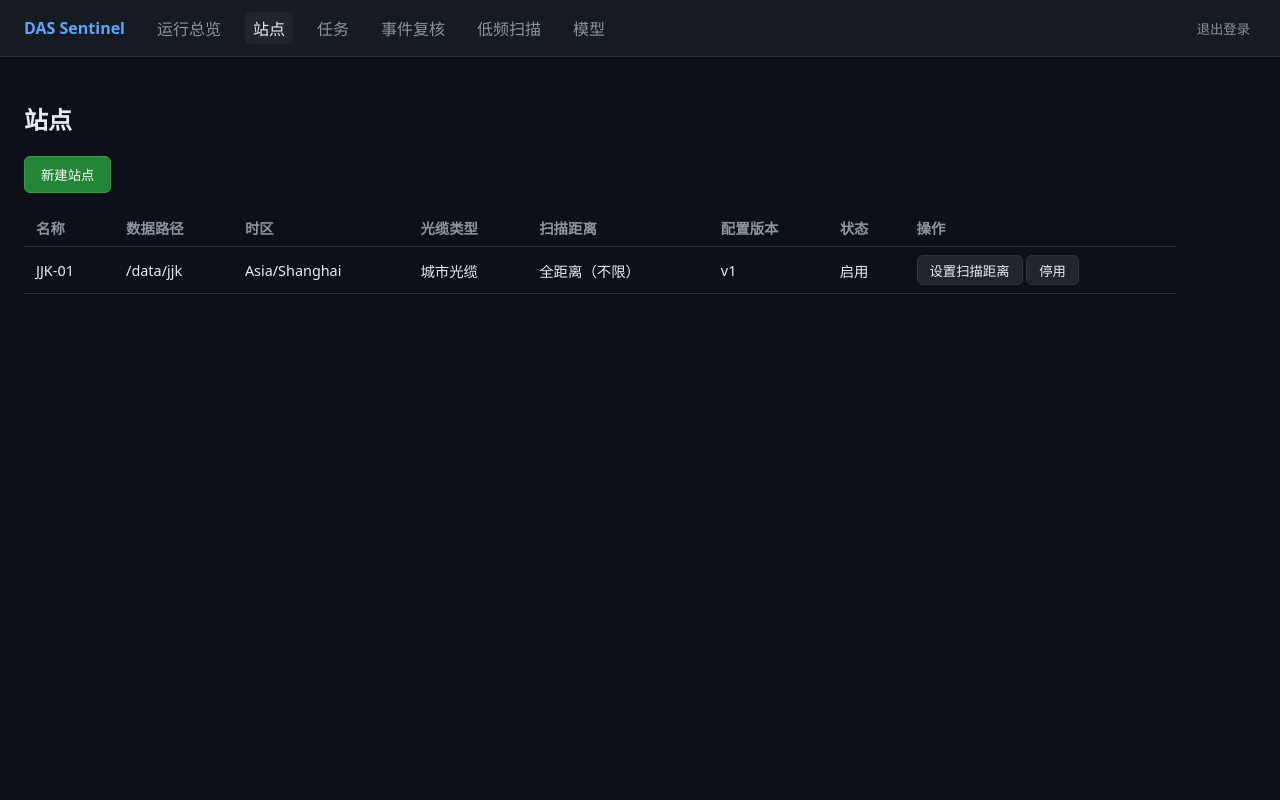
Test: rejects invalid scan distance  to -1 before saving
The width and height of the screenshot is (1280, 800).
Click the button "设置扫描距离" at (970, 270), box [916,255,1022,285]
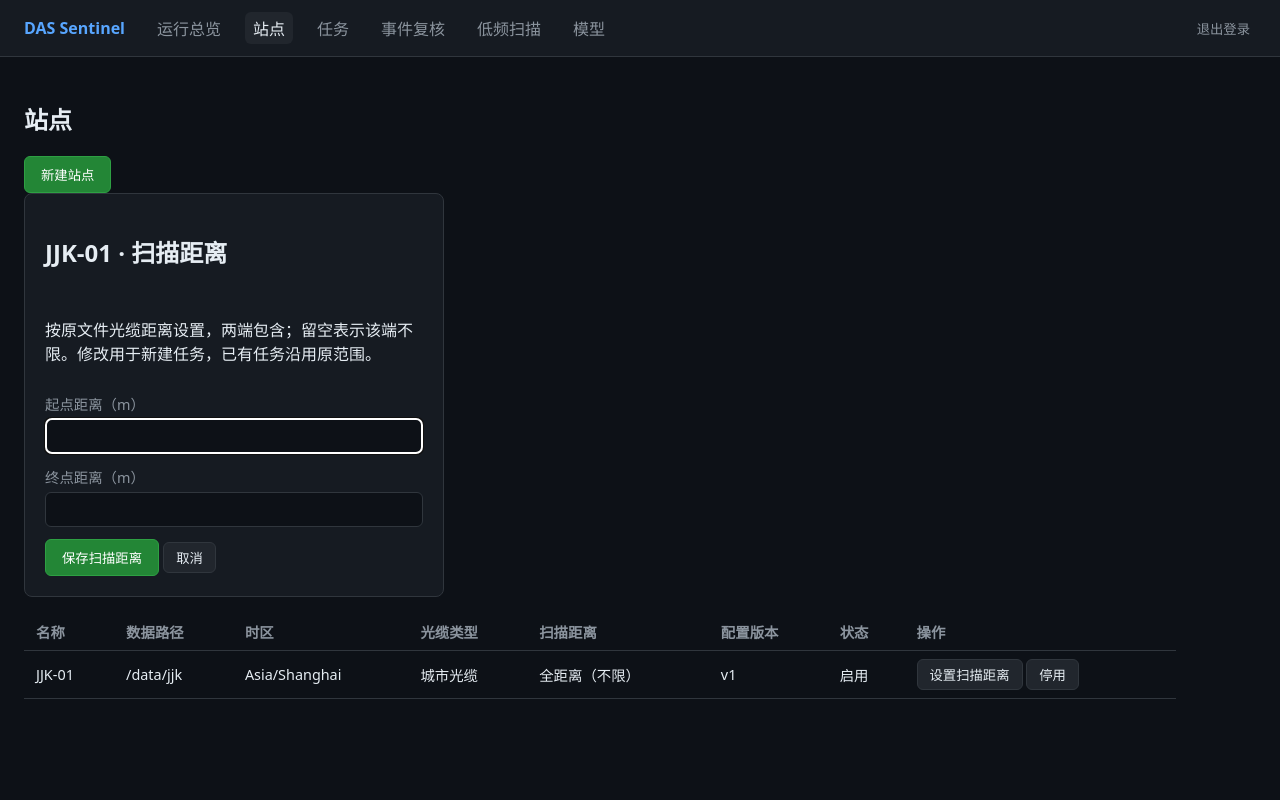
Type "-1" into the field labelled "终点距离（m）" at (234, 509), box [45,492,423,527]
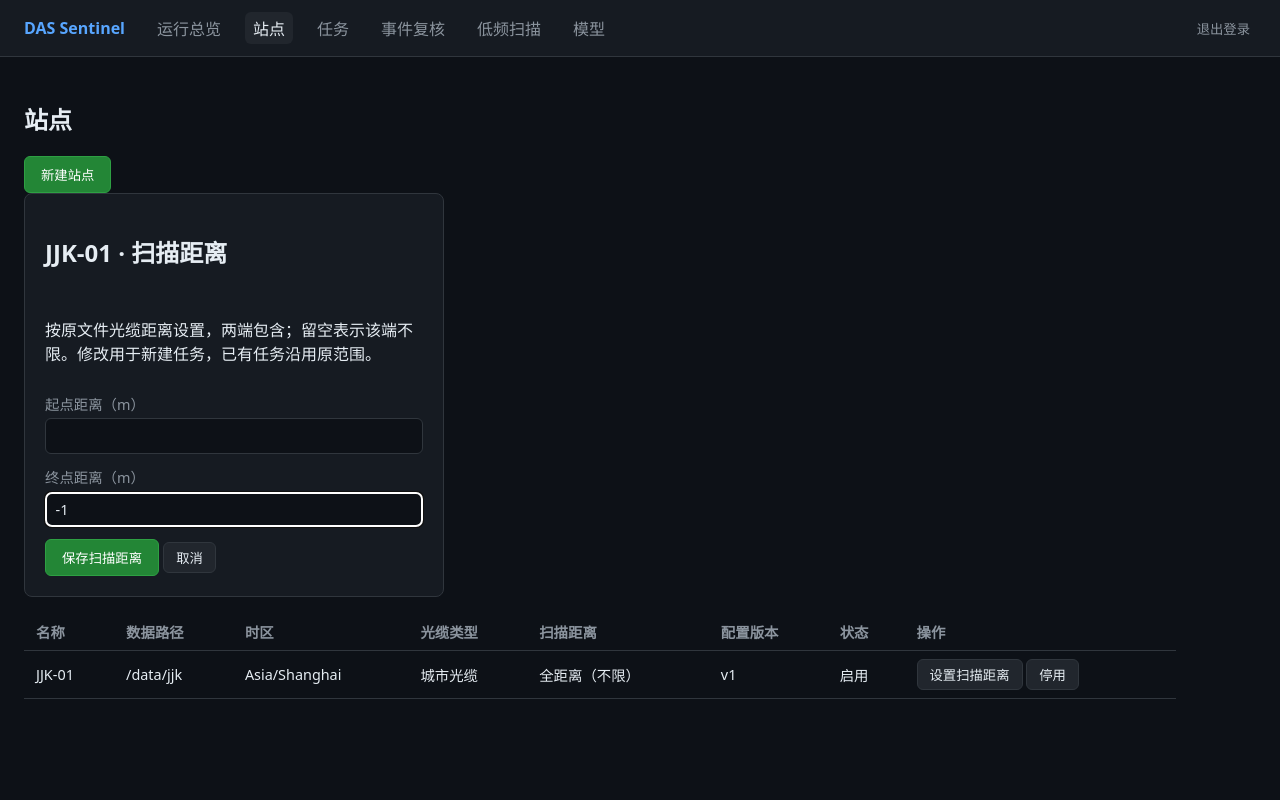
Click the button "保存扫描距离" at (102, 558), box [45,539,159,576]
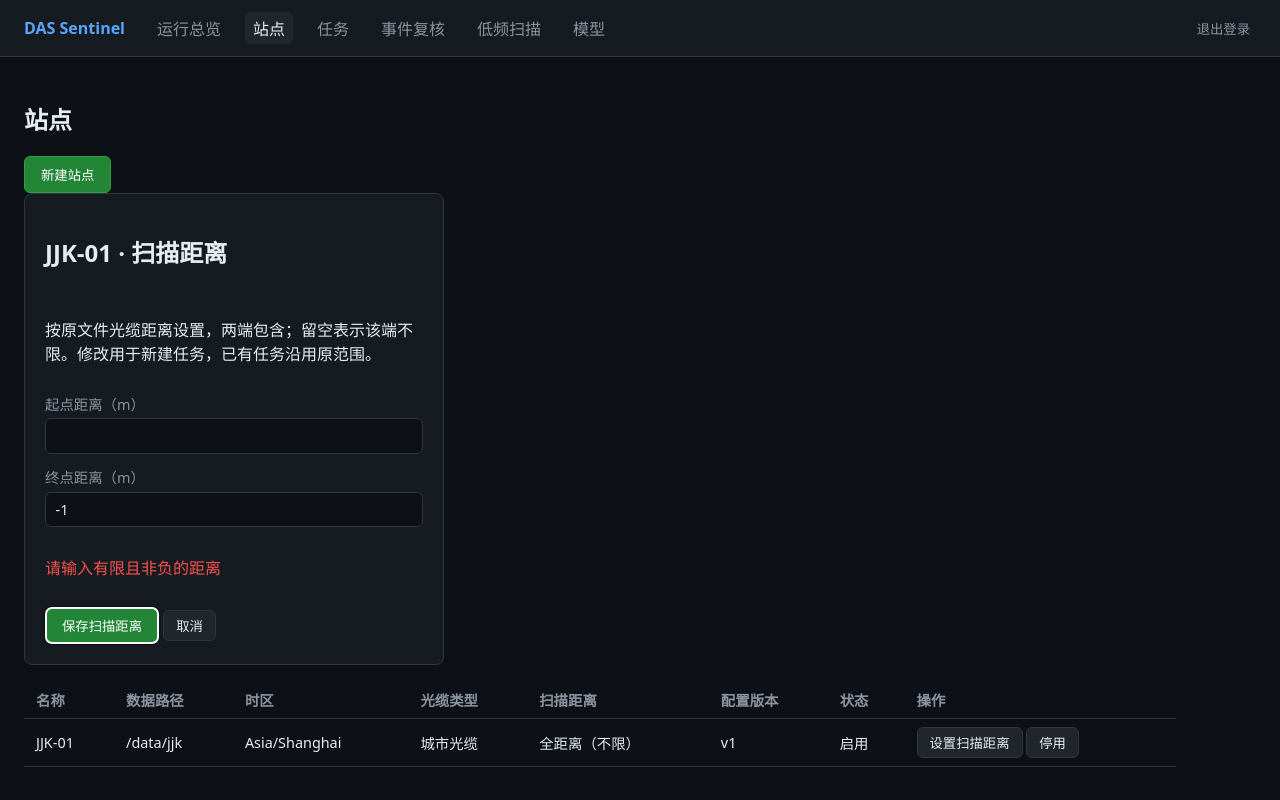
Expected: the message reads "请输入有限且非负的距离", [45,557,221,579]
